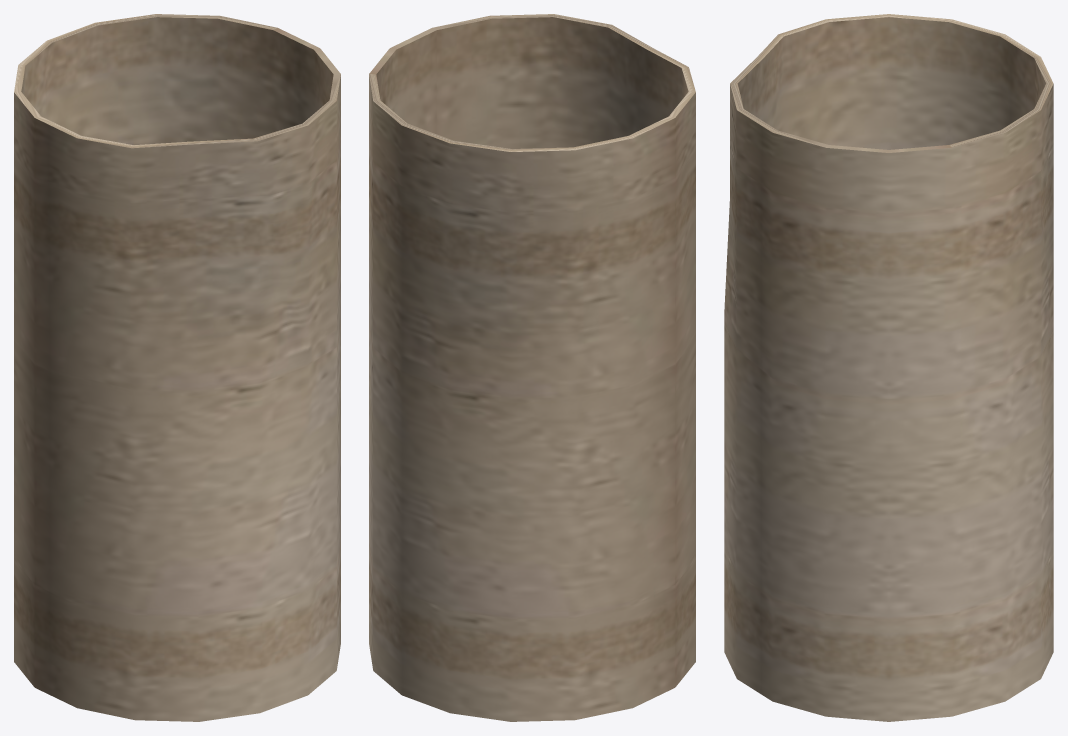
The model's file is WC-Roll.FBX.
The picture shows the model from 3 angles, left to right: view 1: azimuth 30°, elevation 25°; view 2: azimuth 150°, elevation 25°; view 3: azimuth 270°, elevation 25°; orthographic projection.
Visible parts, largest first — view 1: Tube001; view 2: Tube001; view 3: Tube001.
Boxes of the visible parts, x1=… form: Tube001: x1=14, y1=14, x2=340, y2=721; Tube001: x1=369, y1=14, x2=695, y2=721; Tube001: x1=724, y1=14, x2=1053, y2=721.
Size of the model in its own units: 29.39 by 56.04 by 29.39.
1 material, 1 textured.
